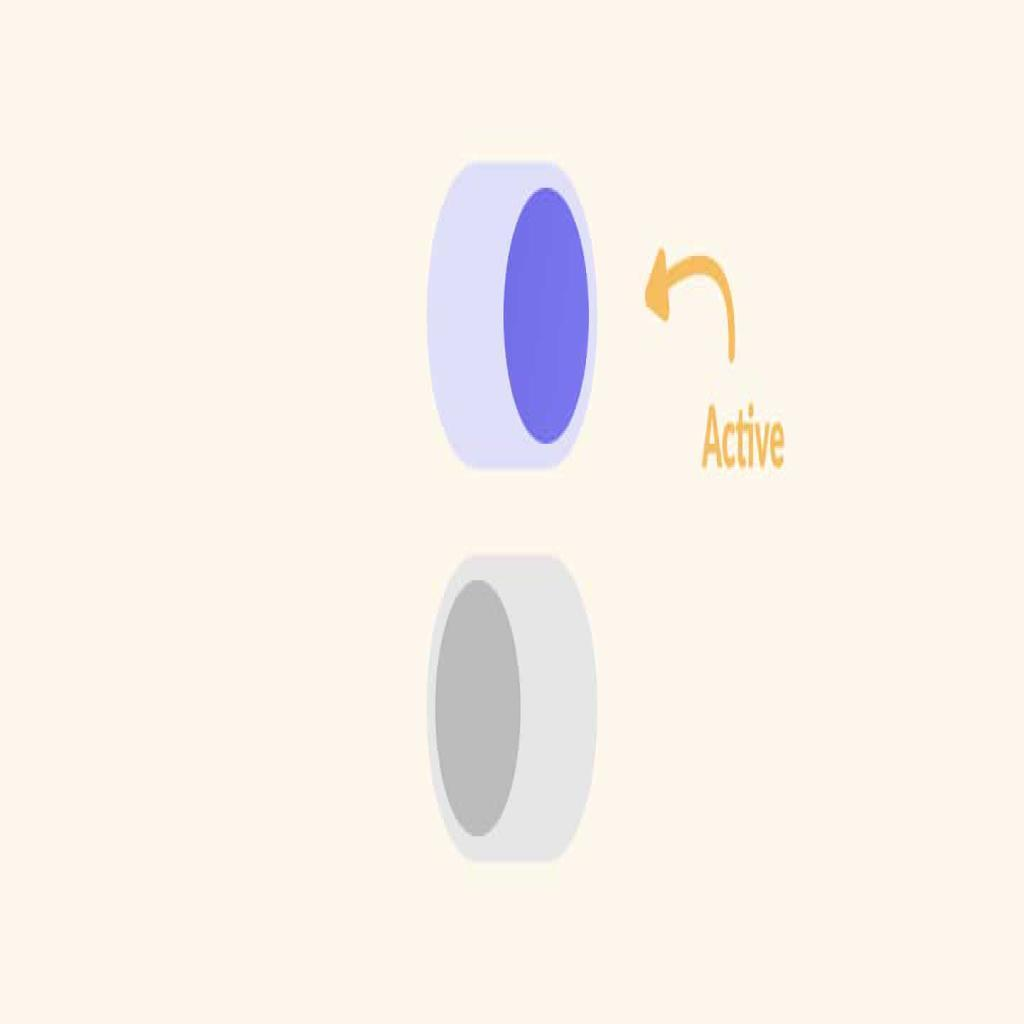switch: (426, 162, 605, 471), (428, 556, 603, 865)
